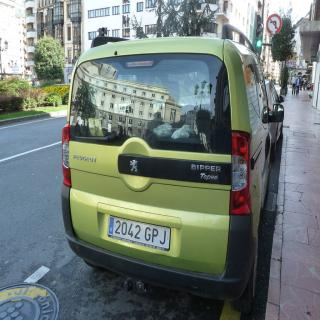license: (109, 218, 171, 250)
